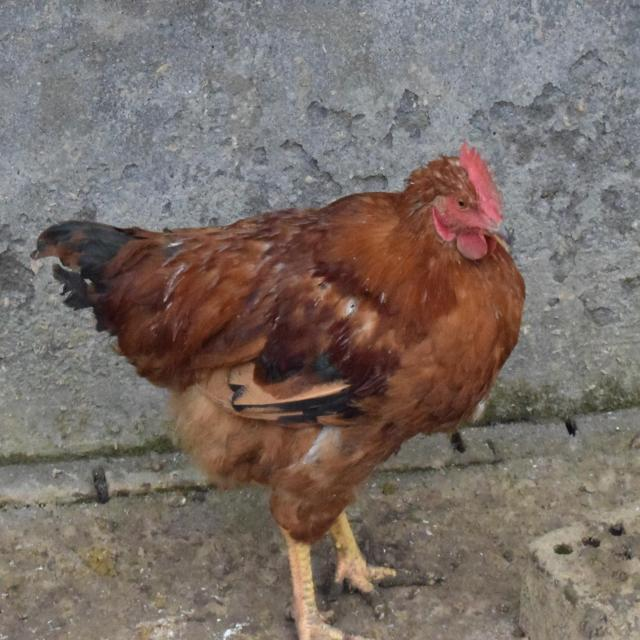cook: (25, 1, 640, 640)
